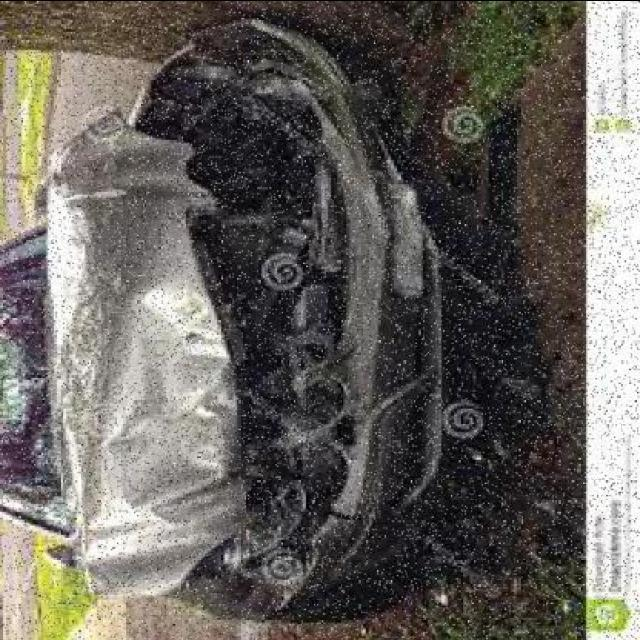bonnet-dent: (45, 111, 266, 602)
front-bumper-dent: (255, 103, 451, 599)
